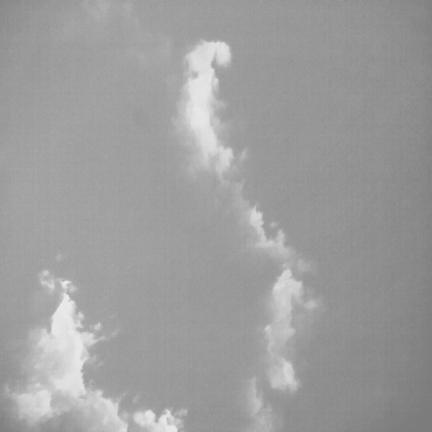flukeprints: (184, 41, 230, 164), (50, 280, 95, 397), (265, 267, 302, 391), (82, 390, 127, 431), (247, 207, 286, 251), (15, 389, 51, 424), (133, 409, 186, 431), (214, 146, 233, 175)
